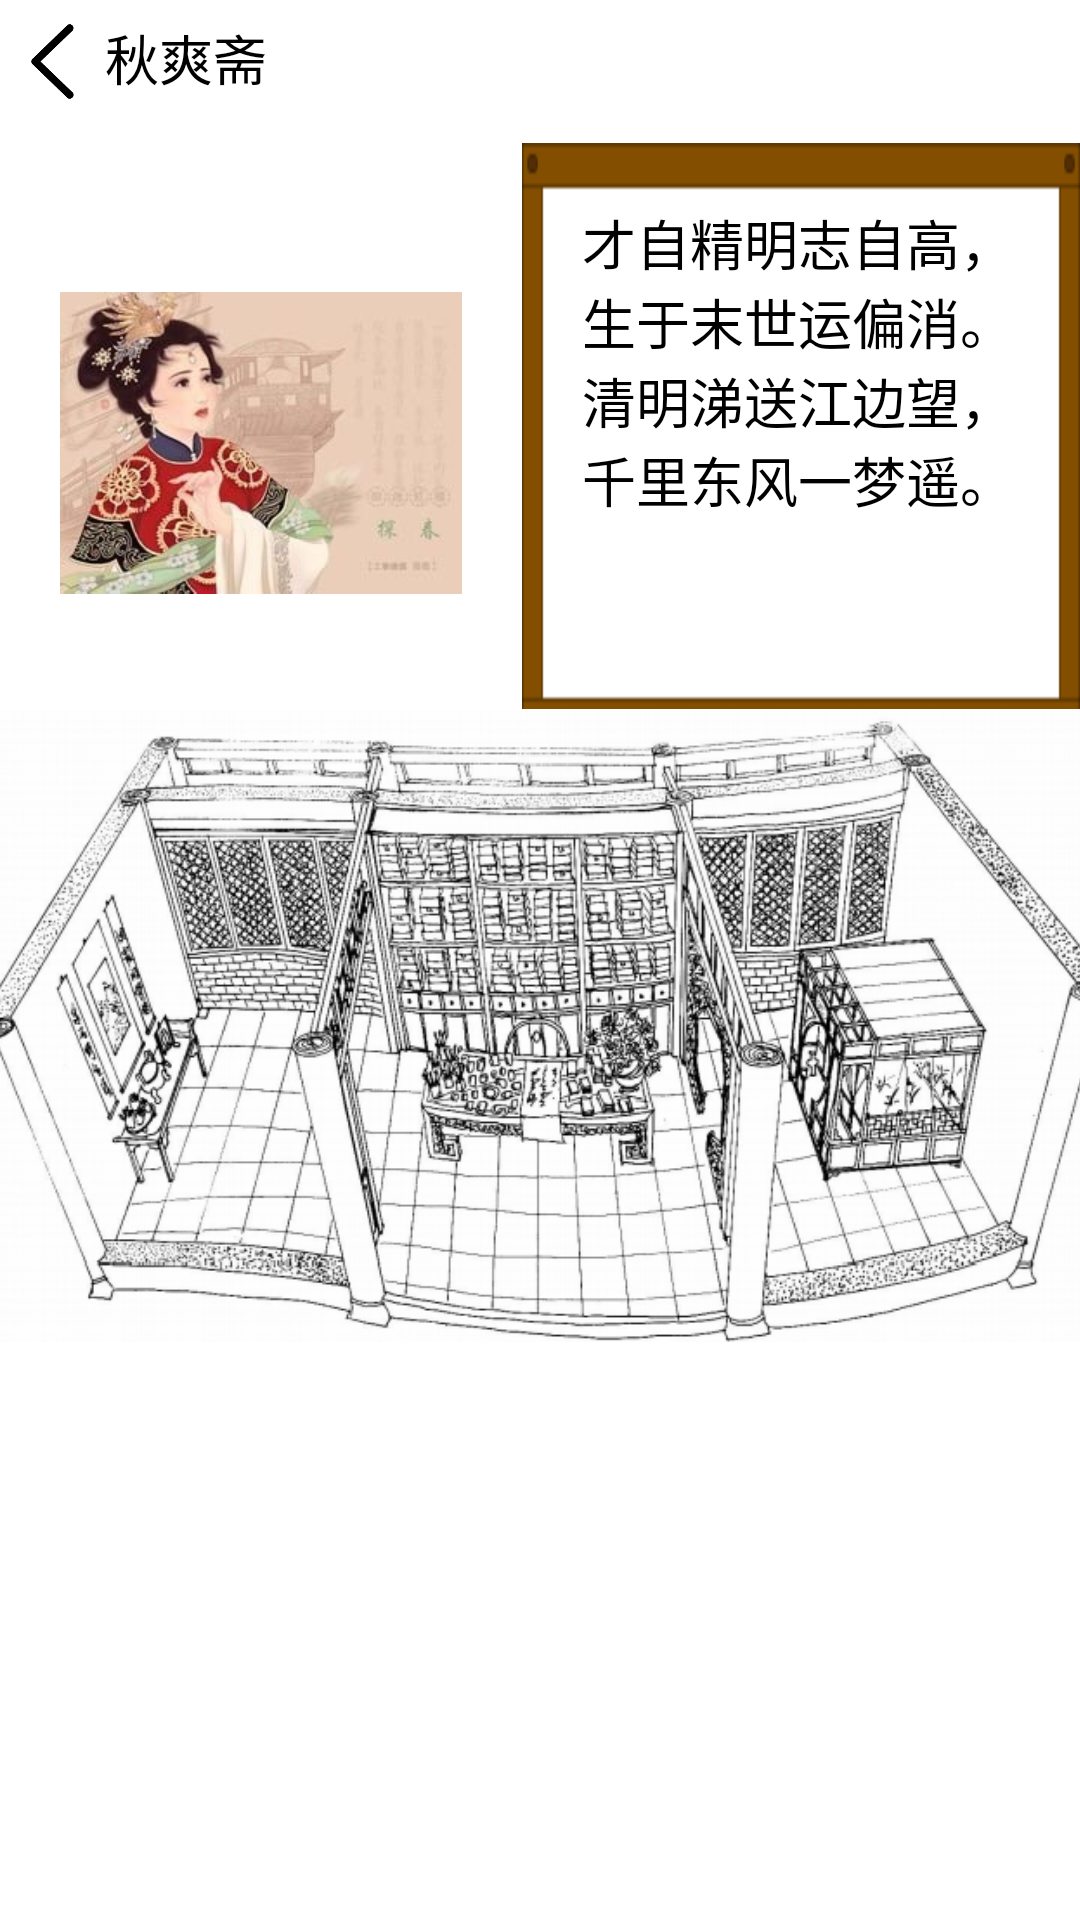

Where to tap for icons on this 1080×1920 app screen, as point (x, y):
returnbutton: point (52, 61)
